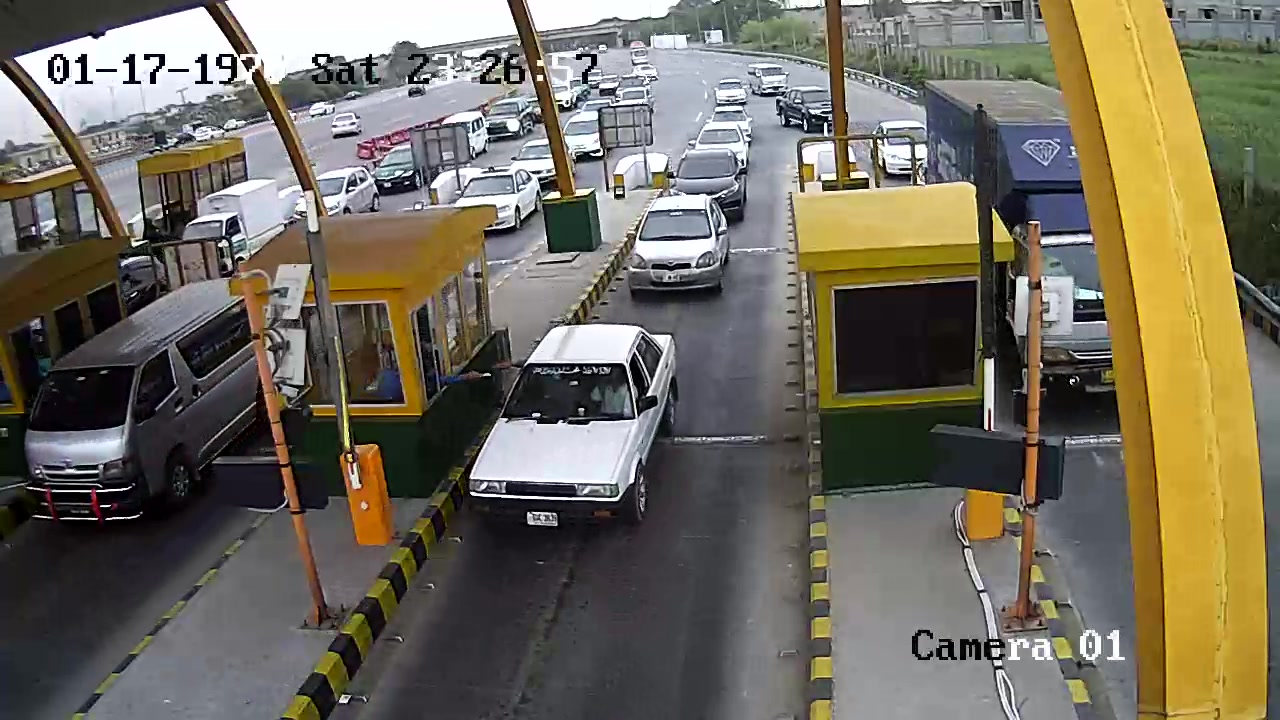F1: (474, 324, 693, 536)
